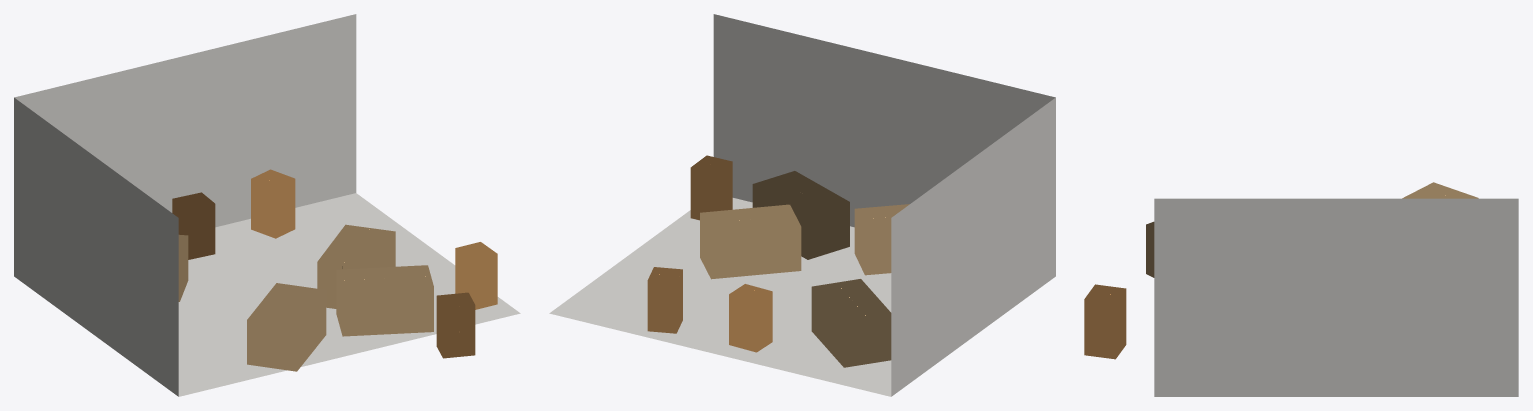
3 views of the same model, side by side, from view 1: azimuth 30°, elevation 25°; view 2: azimuth 150°, elevation 25°; view 3: azimuth 270°, elevation 25° (orthographic). The views are drawn at different scales.
Visible parts, largest first — view 1: Room, wood_table_0_mesh, wood_table_2_mesh, wood_table_1_mesh, dining_chair_2_mesh, dining_chair_3_mesh, dining_chair_0_mesh, dining_chair_1_mesh, wood_table_3_mesh; view 2: Room, wood_table_1_mesh, wood_table_3_mesh, wood_table_0_mesh, dining_chair_1_mesh, wood_table_2_mesh, dining_chair_0_mesh, dining_chair_2_mesh; view 3: Room, dining_chair_3_mesh, wood_table_3_mesh, wood_table_2_mesh.
Part boxes in pixels (left/top/right/bottom): Room: left=14, top=14, right=520, bottom=396; wood_table_0_mesh: left=336, top=265, right=433, bottom=336; wood_table_2_mesh: left=247, top=283, right=326, bottom=371; wood_table_1_mesh: left=317, top=224, right=395, bottom=308; dining_chair_2_mesh: left=251, top=169, right=295, bottom=238; dining_chair_3_mesh: left=436, top=292, right=475, bottom=358; dining_chair_0_mesh: left=455, top=242, right=497, bottom=309; dining_chair_1_mesh: left=172, top=192, right=215, bottom=259; wood_table_3_mesh: left=178, top=234, right=188, bottom=301; Room: left=549, top=14, right=1055, bottom=396; wood_table_1_mesh: left=700, top=204, right=801, bottom=279; wood_table_3_mesh: left=811, top=279, right=891, bottom=367; wood_table_0_mesh: left=752, top=171, right=849, bottom=259; dining_chair_1_mesh: left=729, top=284, right=772, bottom=352; wood_table_2_mesh: left=854, top=204, right=909, bottom=275; dining_chair_0_mesh: left=690, top=155, right=732, bottom=220; dining_chair_2_mesh: left=647, top=267, right=682, bottom=333; Room: left=1154, top=198, right=1518, bottom=396; dining_chair_3_mesh: left=1084, top=284, right=1126, bottom=359; wood_table_3_mesh: left=1402, top=182, right=1478, bottom=198; wood_table_2_mesh: left=1146, top=221, right=1154, bottom=277.
Bounding box in the file's own units: 6 × 3 × 5.96.
